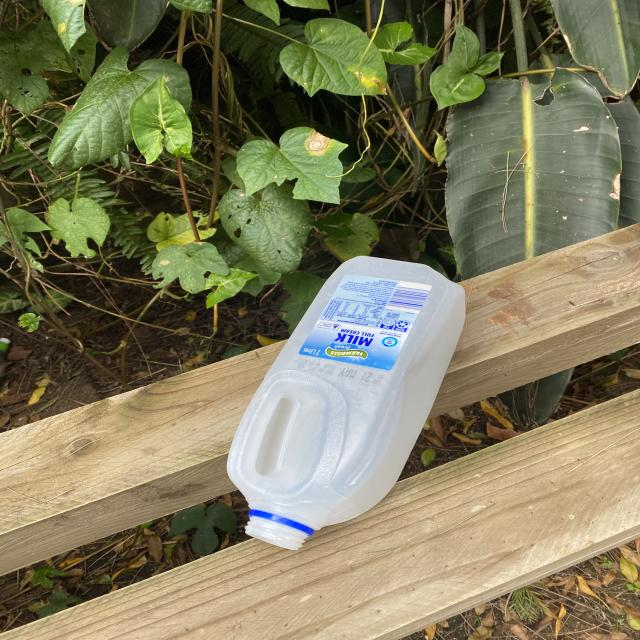bottle: (220, 251, 481, 557)
